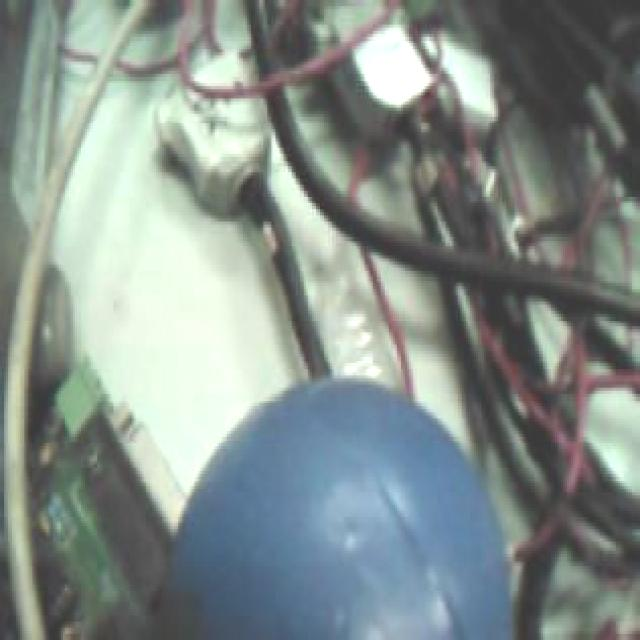BallPurple: (169, 374, 513, 640)
